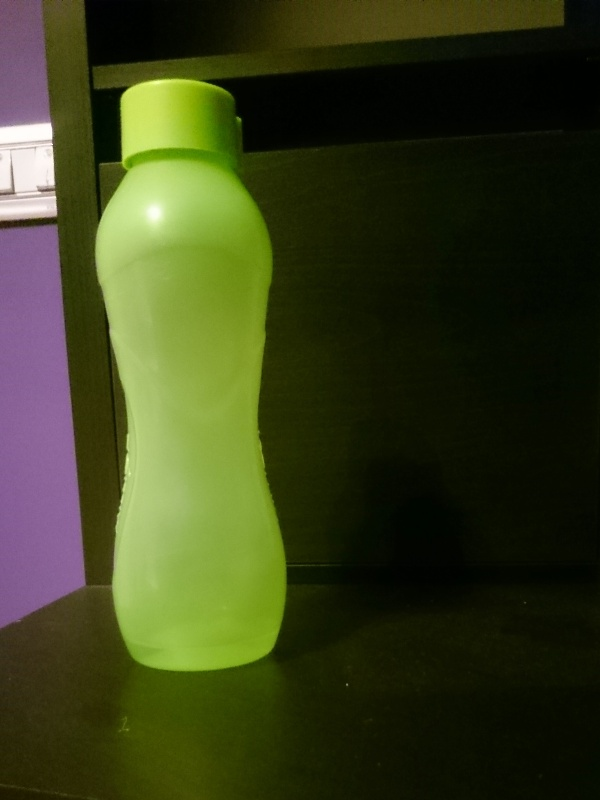my bottle: (89, 79, 284, 671)
